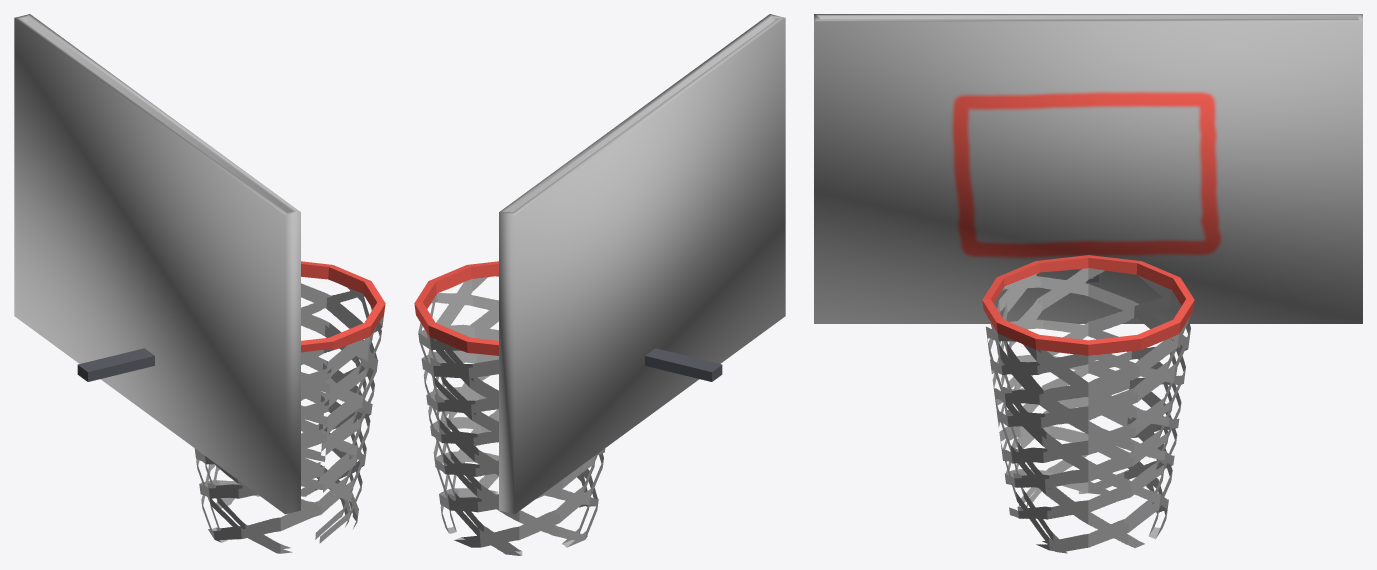
Rendered from canasta_SIN-palo.fbx.
3 renders of one model, left to right at view 1: azimuth 30°, elevation 25°; view 2: azimuth 150°, elevation 25°; view 3: azimuth 270°, elevation 25°, orthographic.
Visible parts, largest first — view 1: Plane.017; view 2: Plane.017; view 3: Plane.017.
Part boxes in pixels (x1,y1,x2,y2): Plane.017: [14, 14, 385, 553]; Plane.017: [414, 14, 785, 555]; Plane.017: [814, 14, 1362, 553].
Size of the model in its own units: 318 by 462 by 517.
